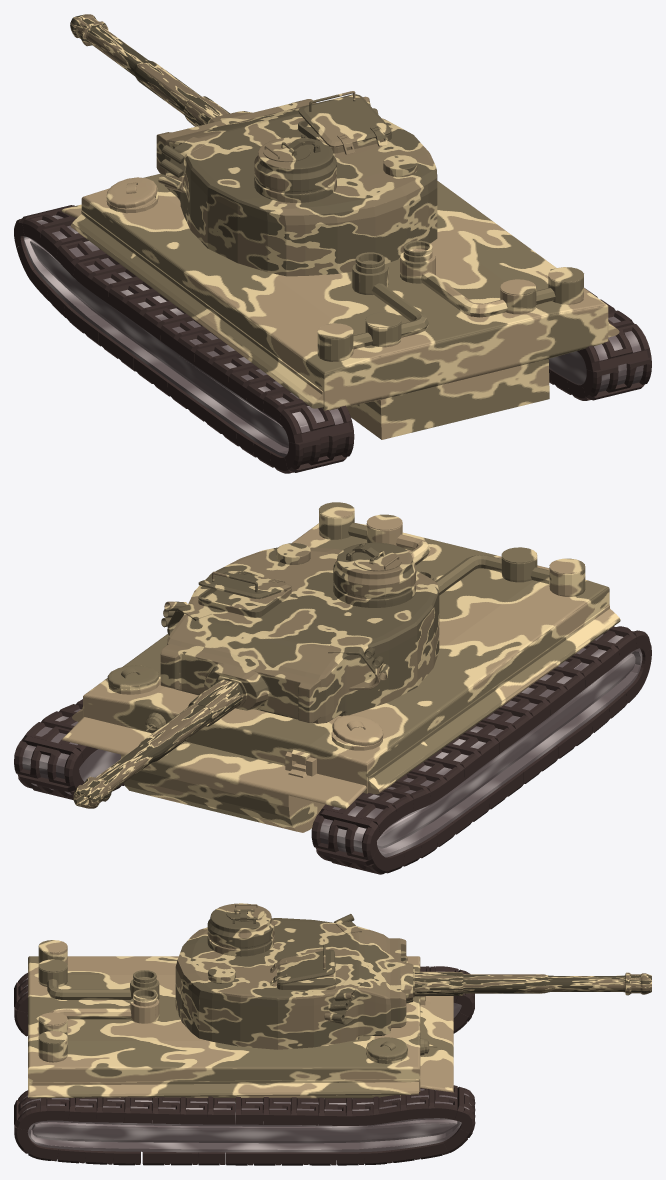
Rendered from TanqueBase(180GiradoEdit).fbx.
The picture shows the model from 3 angles, top to bottom: view 1: azimuth 30°, elevation 25°; view 2: azimuth 150°, elevation 25°; view 3: azimuth 270°, elevation 25°; orthographic projection. The views are drawn at different scales.
Parts seen in each view (by area): view 1: Body, Head, Canon; view 2: Body, Head, Canon; view 3: Body, Head, Canon.
Boxes of the visible parts, x1,y1,x2,y2 form: Body: (14, 173, 651, 473); Head: (156, 91, 437, 276); Canon: (70, 14, 229, 126); Body: (14, 502, 651, 874); Head: (160, 542, 439, 723); Canon: (73, 679, 243, 808); Body: (14, 940, 475, 1165); Head: (175, 903, 414, 1049); Canon: (414, 971, 651, 996).
Bounding box in the file's own units: 276 × 158 × 529.
